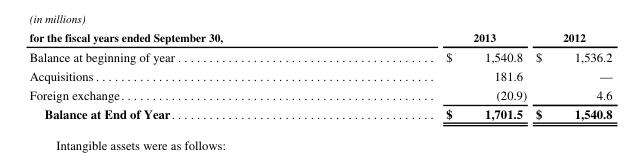table: (28, 28, 611, 121)
table column: (28, 28, 333, 121), (333, 28, 530, 121), (530, 28, 611, 121)
table column header: (28, 28, 611, 46)
table row: (28, 46, 611, 65), (28, 65, 611, 84), (28, 84, 611, 103), (28, 28, 611, 46), (28, 103, 611, 121)
